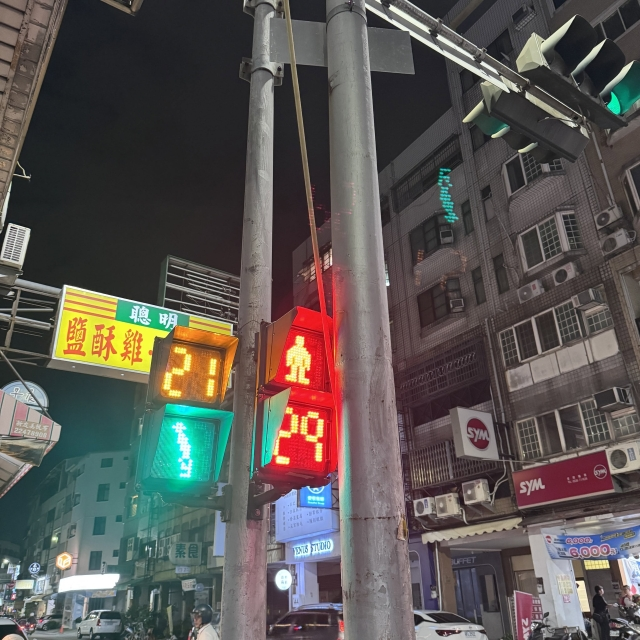green_light: (155, 325, 235, 493)
